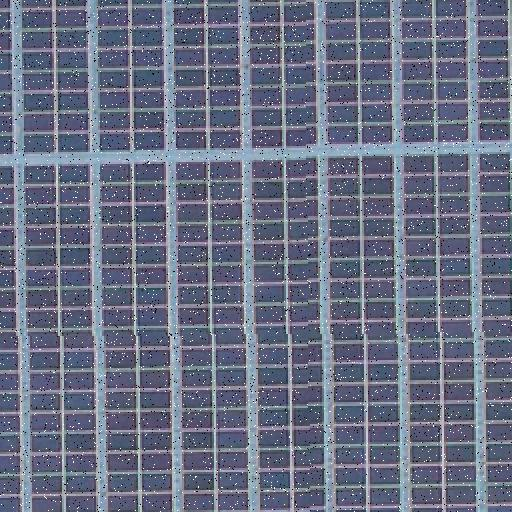solar-panel: (100, 161, 176, 511), (403, 153, 477, 511), (327, 156, 401, 512), (175, 160, 249, 512), (23, 164, 97, 512), (252, 160, 324, 512), (480, 152, 512, 512), (172, 0, 244, 152), (21, 0, 91, 156), (97, 0, 167, 154), (249, 1, 319, 151), (400, 0, 472, 144), (324, 0, 392, 148), (1, 166, 23, 512), (473, 0, 511, 144), (0, 1, 16, 159)
